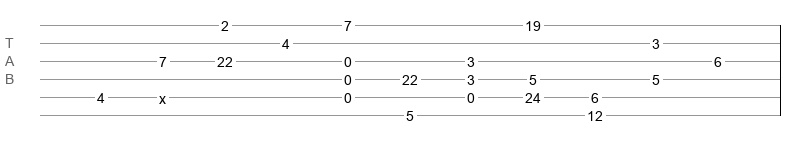0: (344, 54, 352, 64), (344, 72, 352, 82), (344, 90, 352, 100), (467, 90, 475, 100)
12: (587, 108, 603, 118)
19: (525, 18, 541, 28)
2: (221, 18, 229, 28)
22: (217, 54, 233, 64), (402, 72, 418, 82)
24: (525, 90, 541, 100)
3: (467, 72, 475, 82), (467, 54, 475, 64), (652, 36, 660, 46)
4: (97, 90, 105, 100), (282, 36, 290, 46)
5: (406, 108, 414, 118), (529, 72, 537, 82), (652, 72, 660, 82)
6: (591, 90, 599, 100), (714, 54, 722, 64)
7: (159, 54, 167, 64), (344, 18, 352, 28)
x: (159, 91, 166, 99)
